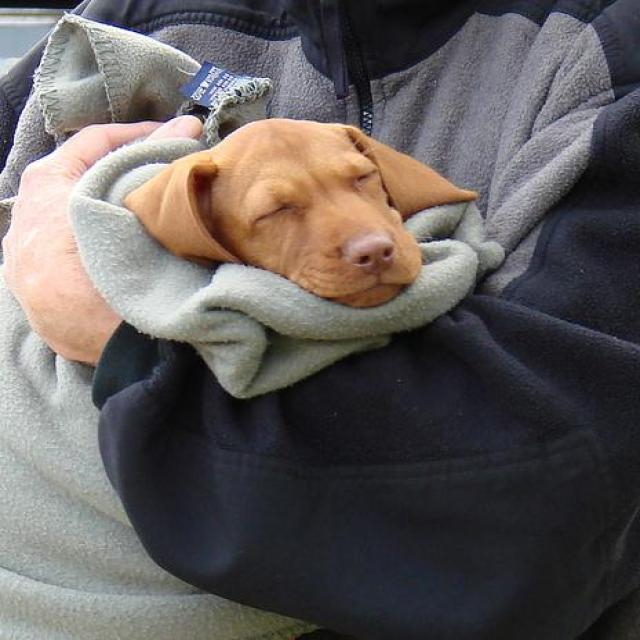vizsla: (118, 116, 476, 310)
